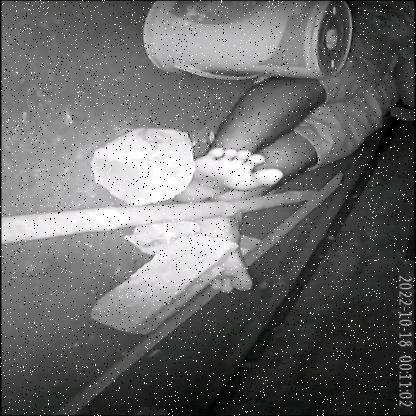leg: (136, 62, 286, 211), (196, 202, 272, 295)
